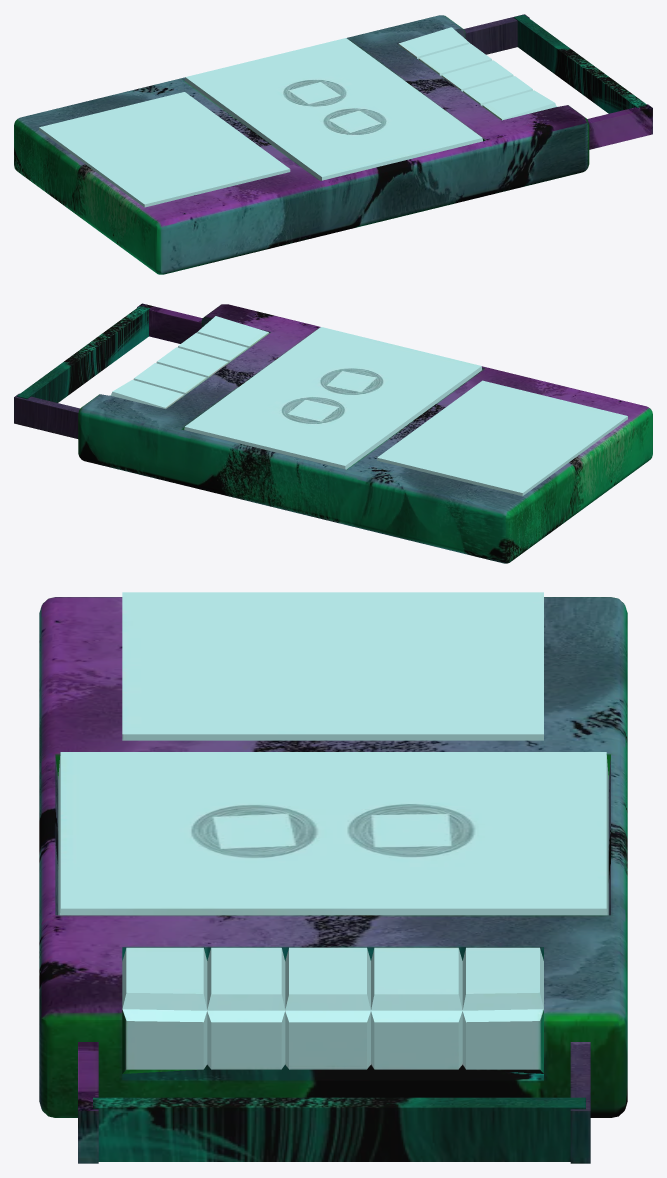
The model's file is tape-transformed.glb.
3 views of the same model, one above another, from view 1: azimuth 30°, elevation 25°; view 2: azimuth 150°, elevation 25°; view 3: azimuth 270°, elevation 25° (orthographic). The views are drawn at different scales.
Parts seen in each view (by area): view 1: pCube5; view 2: pCube5; view 3: pCube5.
Part boxes in pixels (<box>): pCube5: <box>14,14,652,274</box>; pCube5: <box>14,303,652,563</box>; pCube5: <box>39,592,627,1163</box>.
Bounding box in the file's own units: 473 × 52.05 × 239.
Materials: 1 (1 with a texture image).
